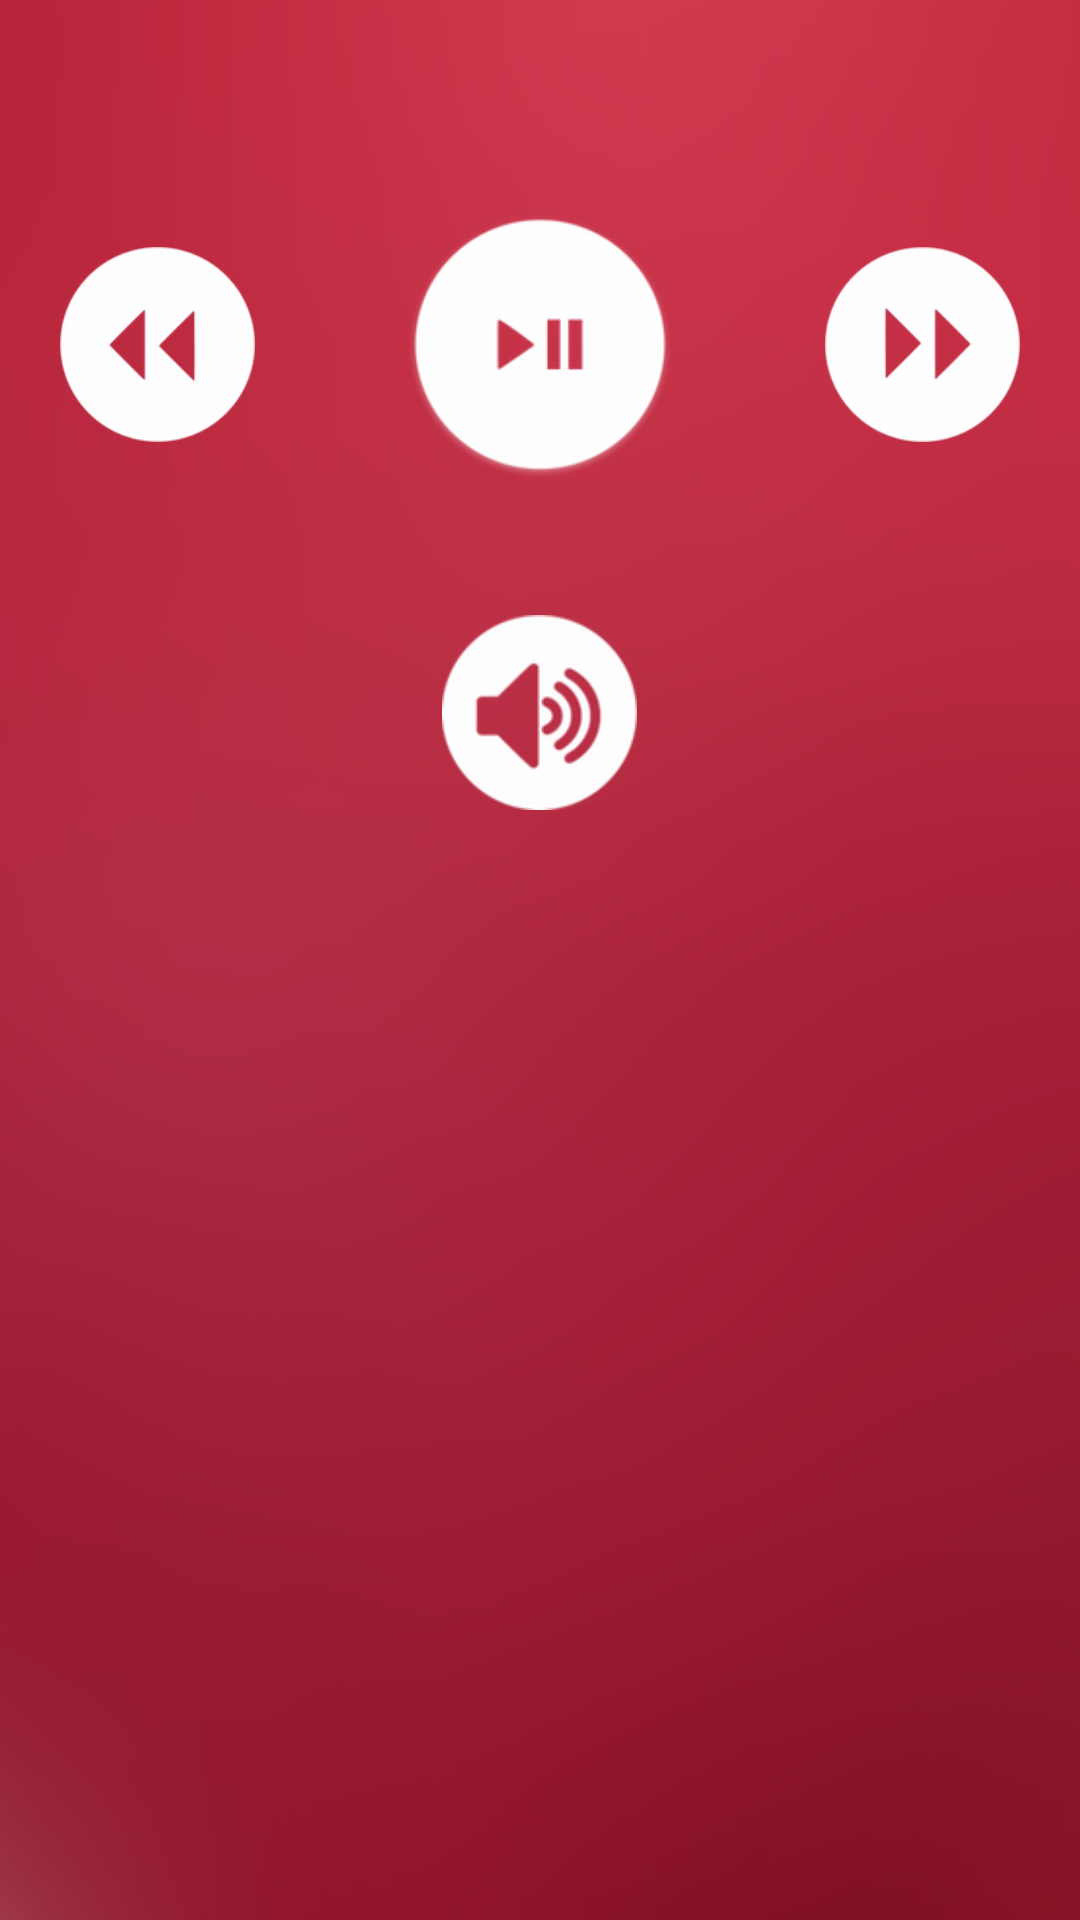

Where icons sit on this 1080px×1920px app screen, as (x1, y1, x2, y2):
forward: (825, 247, 1020, 442)
playpause: (414, 219, 666, 473)
reverse: (60, 247, 255, 442)
volup: (442, 615, 637, 810)
